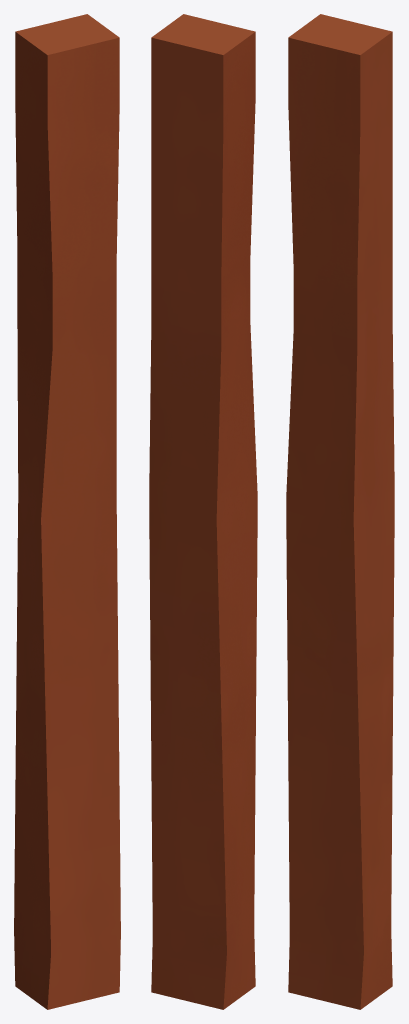
Rendered from Beam.fbx.
The picture shows the model from 3 angles, left to right: view 1: azimuth 30°, elevation 25°; view 2: azimuth 150°, elevation 25°; view 3: azimuth 330°, elevation 25°; orthographic projection.
Parts seen in each view (by area): view 1: Straight Wooden Beam.011; view 2: Straight Wooden Beam.011; view 3: Straight Wooden Beam.011.
Boxes of the visible parts, bbox=[...] form: Straight Wooden Beam.011: bbox=[14, 14, 120, 1009]; Straight Wooden Beam.011: bbox=[149, 14, 257, 1009]; Straight Wooden Beam.011: bbox=[286, 14, 394, 1009].
Size of the model in its own units: 73.82 by 834 by 57.1.
